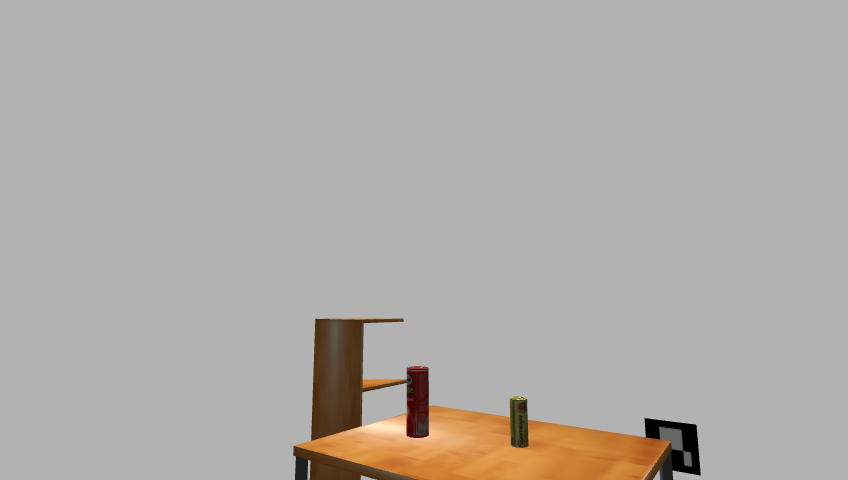aruco marker: (639, 416, 706, 479)
biscuits pack: (508, 396, 529, 449)
bookshelf: (302, 315, 409, 480)
dinner table: (287, 407, 681, 480)
pringles can: (404, 366, 431, 440)
